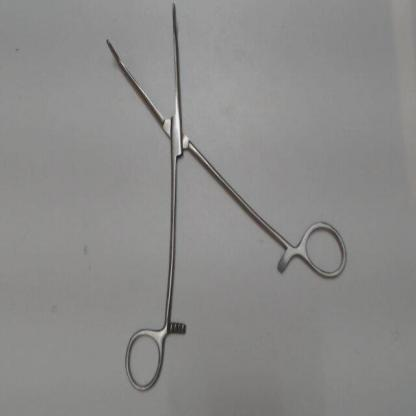Lahey Forceps: (97, 3, 355, 398)
